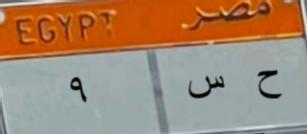7aa: (252, 62, 288, 108)
9: (60, 74, 99, 110)
seen: (184, 67, 230, 110)
